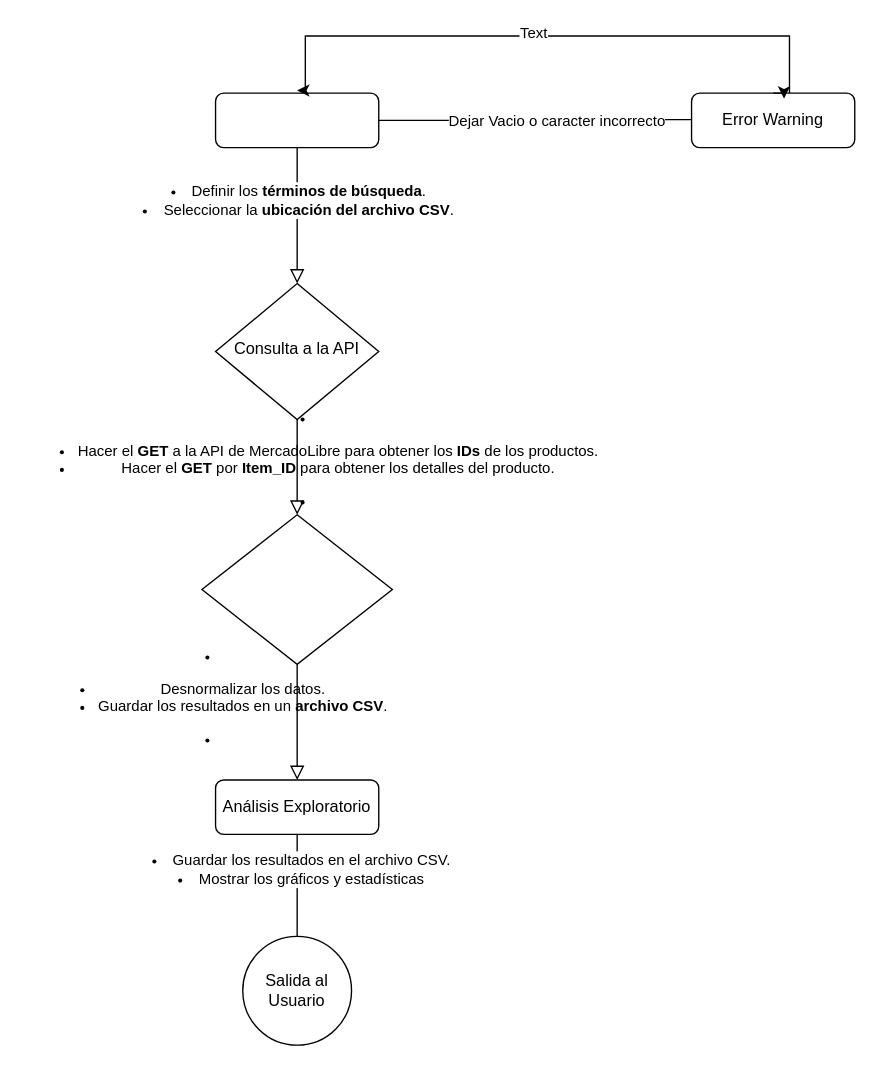
Image size: 879x1069. Some labels were removed from this diagram. Here are the shapes that lost their labels. From the top down, the centre of each, then its label:
At (296,120): "Entrada del Usuario".
At (296,588): "Procesamiento de Datos".
